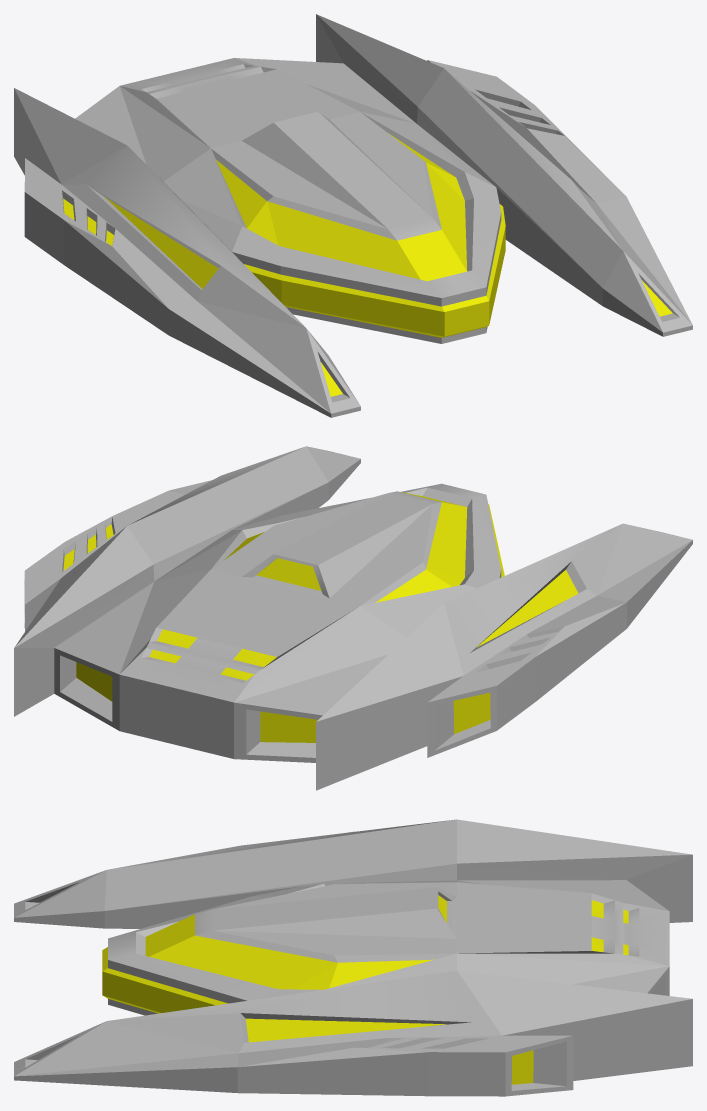
The model's file is PlayerShip_Yellow.fbx.
3 views of the same model, one above another, from view 1: azimuth 30°, elevation 25°; view 2: azimuth 150°, elevation 25°; view 3: azimuth 270°, elevation 25° (orthographic). The views are drawn at different scales.
Parts seen in each view (by area): view 1: playerShip_Yellow; view 2: playerShip_Yellow; view 3: playerShip_Yellow.
Part boxes in pixels (x1=…): playerShip_Yellow: x1=14, y1=14, x2=692, y2=417; playerShip_Yellow: x1=14, y1=446, x2=692, y2=790; playerShip_Yellow: x1=14, y1=819, x2=692, y2=1096.
Size of the model in its own units: 4.23 by 0.867 by 5.39.
